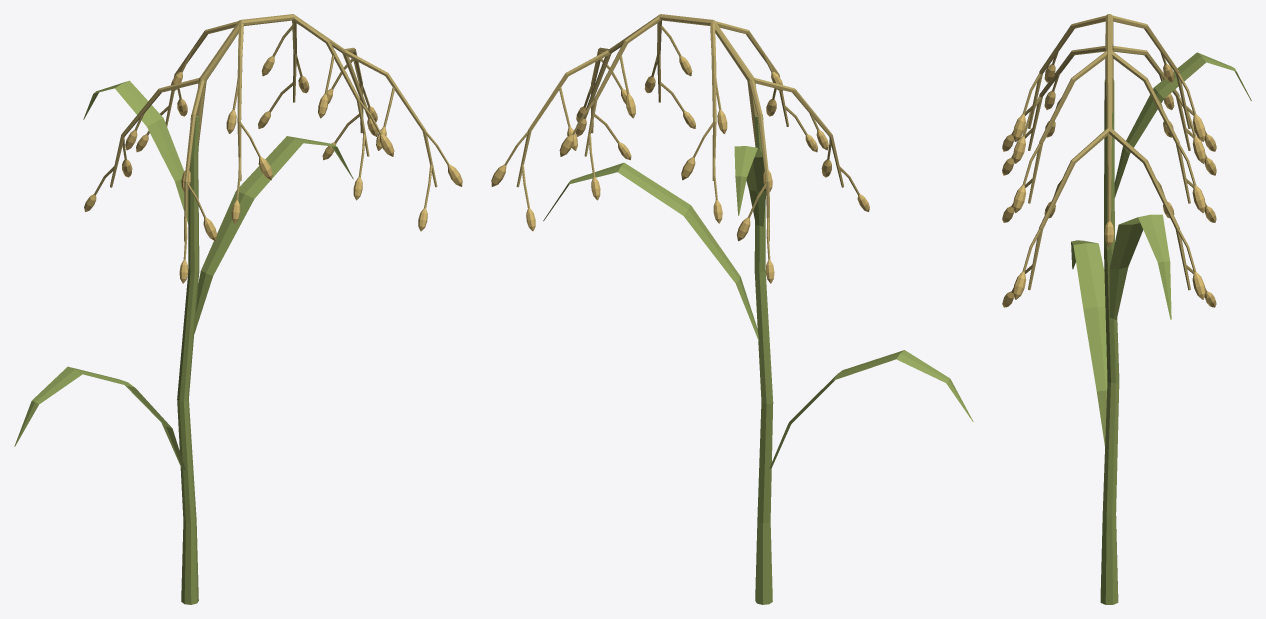
3 renders of one model, left to right at view 1: azimuth 30°, elevation 25°; view 2: azimuth 150°, elevation 25°; view 3: azimuth 270°, elevation 25°, orthographic. The views are drawn at different scales.
Parts seen in each view (by area): view 1: WholeSlenderBasalCulm, WholeNarrowFoldedBlade_01, WholeNarrowFoldedBlade_02, WholeNarrowFoldedBlade_00, WholeArchingTerminalPanicleAxis, WholeDroopingPrimaryBranch_06, WholeDroopingPrimaryBranch_04, WholeDroopingPrimaryBranch_01, WholeDroopingPrimaryBranch_00, WholeDroopingPrimaryBranch_02; view 2: WholeSlenderBasalCulm, WholeNarrowFoldedBlade_01, WholeNarrowFoldedBlade_02, WholeArchingTerminalPanicleAxis, WholeNarrowFoldedBlade_00, WholeDroopingPrimaryBranch_07, WholeDroopingPrimaryBranch_05, WholeDroopingPrimaryBranch_00, WholeDroopingPrimaryBranch_01, WholeDroopingPrimaryBranch_03; view 3: WholeSlenderBasalCulm, WholeNarrowFoldedBlade_00, WholeNarrowFoldedBlade_01, WholeNarrowFoldedBlade_02, WholeArchingTerminalPanicleAxis, WholeDroopingPrimaryBranch_06, WholeDroopingPrimaryBranch_07, WholeDroopingPrimaryBranch_05, WholeDroopingPrimaryBranch_04, WholeDroopingPrimaryBranch_02, WholeDroopingPrimaryBranch_03, WholeDroopingPrimaryBranch_00 (+1 smaller).
Boxes of the visible parts, <box> form: WholeSlenderBasalCulm: <box>177,115,199,604</box>; WholeNarrowFoldedBlade_01: <box>194,136,353,333</box>; WholeNarrowFoldedBlade_02: <box>83,80,188,223</box>; WholeNarrowFoldedBlade_00: <box>14,366,185,470</box>; WholeArchingTerminalPanicleAxis: <box>196,14,370,143</box>; WholeDroopingPrimaryBranch_06: <box>343,50,437,187</box>; WholeDroopingPrimaryBranch_04: <box>293,16,369,156</box>; WholeDroopingPrimaryBranch_01: <box>110,78,199,187</box>; WholeDroopingPrimaryBranch_00: <box>184,79,204,241</box>; WholeDroopingPrimaryBranch_02: <box>237,22,243,180</box>; WholeSlenderBasalCulm: <box>754,115,773,604</box>; WholeNarrowFoldedBlade_01: <box>543,162,758,340</box>; WholeNarrowFoldedBlade_02: <box>734,146,766,226</box>; WholeArchingTerminalPanicleAxis: <box>583,14,757,144</box>; WholeNarrowFoldedBlade_00: <box>769,350,973,468</box>; WholeDroopingPrimaryBranch_07: <box>516,50,610,187</box>; WholeDroopingPrimaryBranch_05: <box>584,16,660,156</box>; WholeDroopingPrimaryBranch_00: <box>754,78,843,187</box>; WholeDroopingPrimaryBranch_01: <box>749,79,769,241</box>; WholeDroopingPrimaryBranch_03: <box>710,22,716,180</box>; WholeSlenderBasalCulm: <box>1100,80,1119,604</box>; WholeNarrowFoldedBlade_00: <box>1071,240,1107,445</box>; WholeNarrowFoldedBlade_01: <box>1109,214,1171,319</box>; WholeNarrowFoldedBlade_02: <box>1114,52,1251,197</box>; WholeArchingTerminalPanicleAxis: <box>1105,14,1113,221</box>; WholeDroopingPrimaryBranch_06: <box>1028,128,1109,290</box>; WholeDroopingPrimaryBranch_07: <box>1109,128,1190,290</box>; WholeDroopingPrimaryBranch_05: <box>1111,51,1190,203</box>; WholeDroopingPrimaryBranch_04: <box>1028,51,1107,203</box>; WholeDroopingPrimaryBranch_02: <box>1028,15,1105,128</box>; WholeDroopingPrimaryBranch_03: <box>1112,15,1190,128</box>; WholeDroopingPrimaryBranch_00: <box>1028,46,1105,150</box>.
Bounding box in the file's own units: 0.6562 × 0.8442 × 0.3114.
